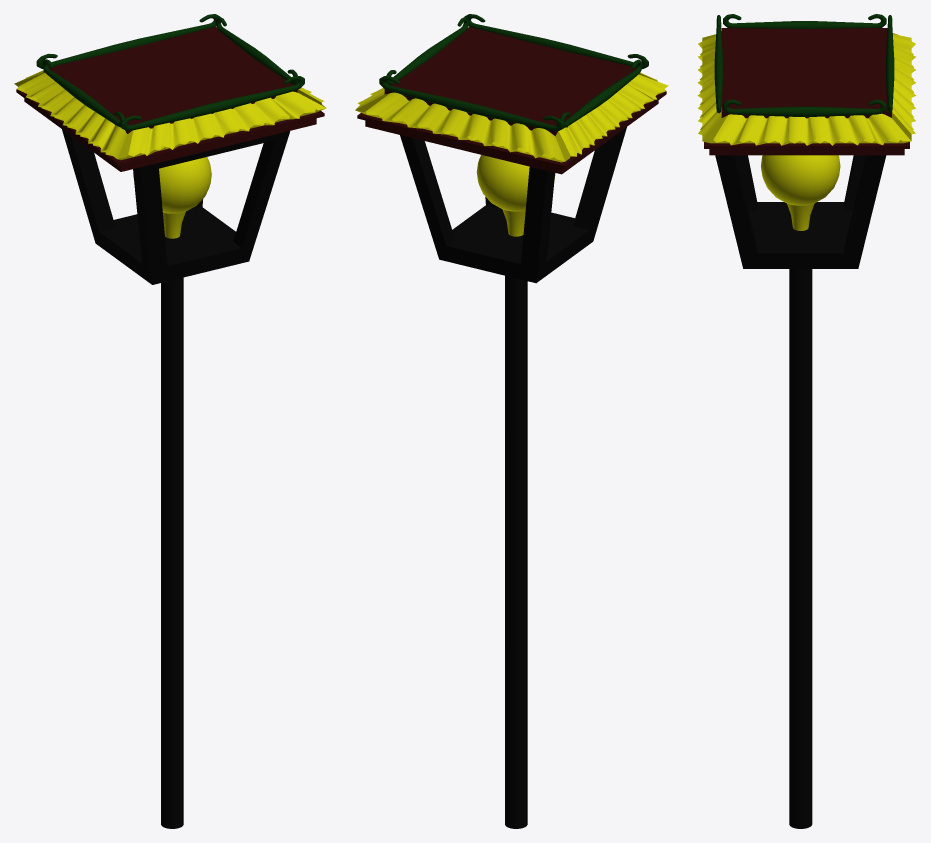
Rendered from Lamapara1.fbx.
3 renders of one model, left to right at view 1: azimuth 30°, elevation 25°; view 2: azimuth 150°, elevation 25°; view 3: azimuth 270°, elevation 25°, orthographic.
Parts seen in each view (by area): view 1: Mesh; view 2: Mesh; view 3: Mesh.
Part boxes in pixels (x1,y1,x2,y2): Mesh: (14, 14, 326, 828); Mesh: (355, 14, 668, 828); Mesh: (697, 14, 916, 828).
Bounding box in the file's own units: 20.3 × 66.91 × 17.31.
